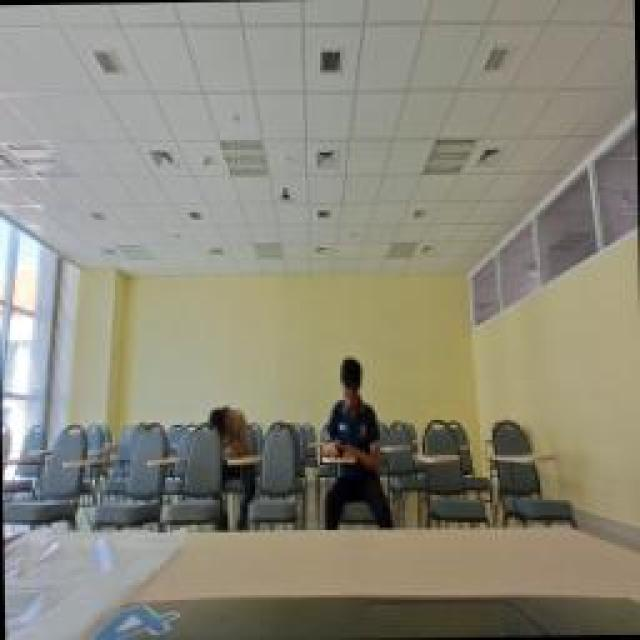sleep: (205, 405, 250, 453)
study: (320, 352, 382, 460)
